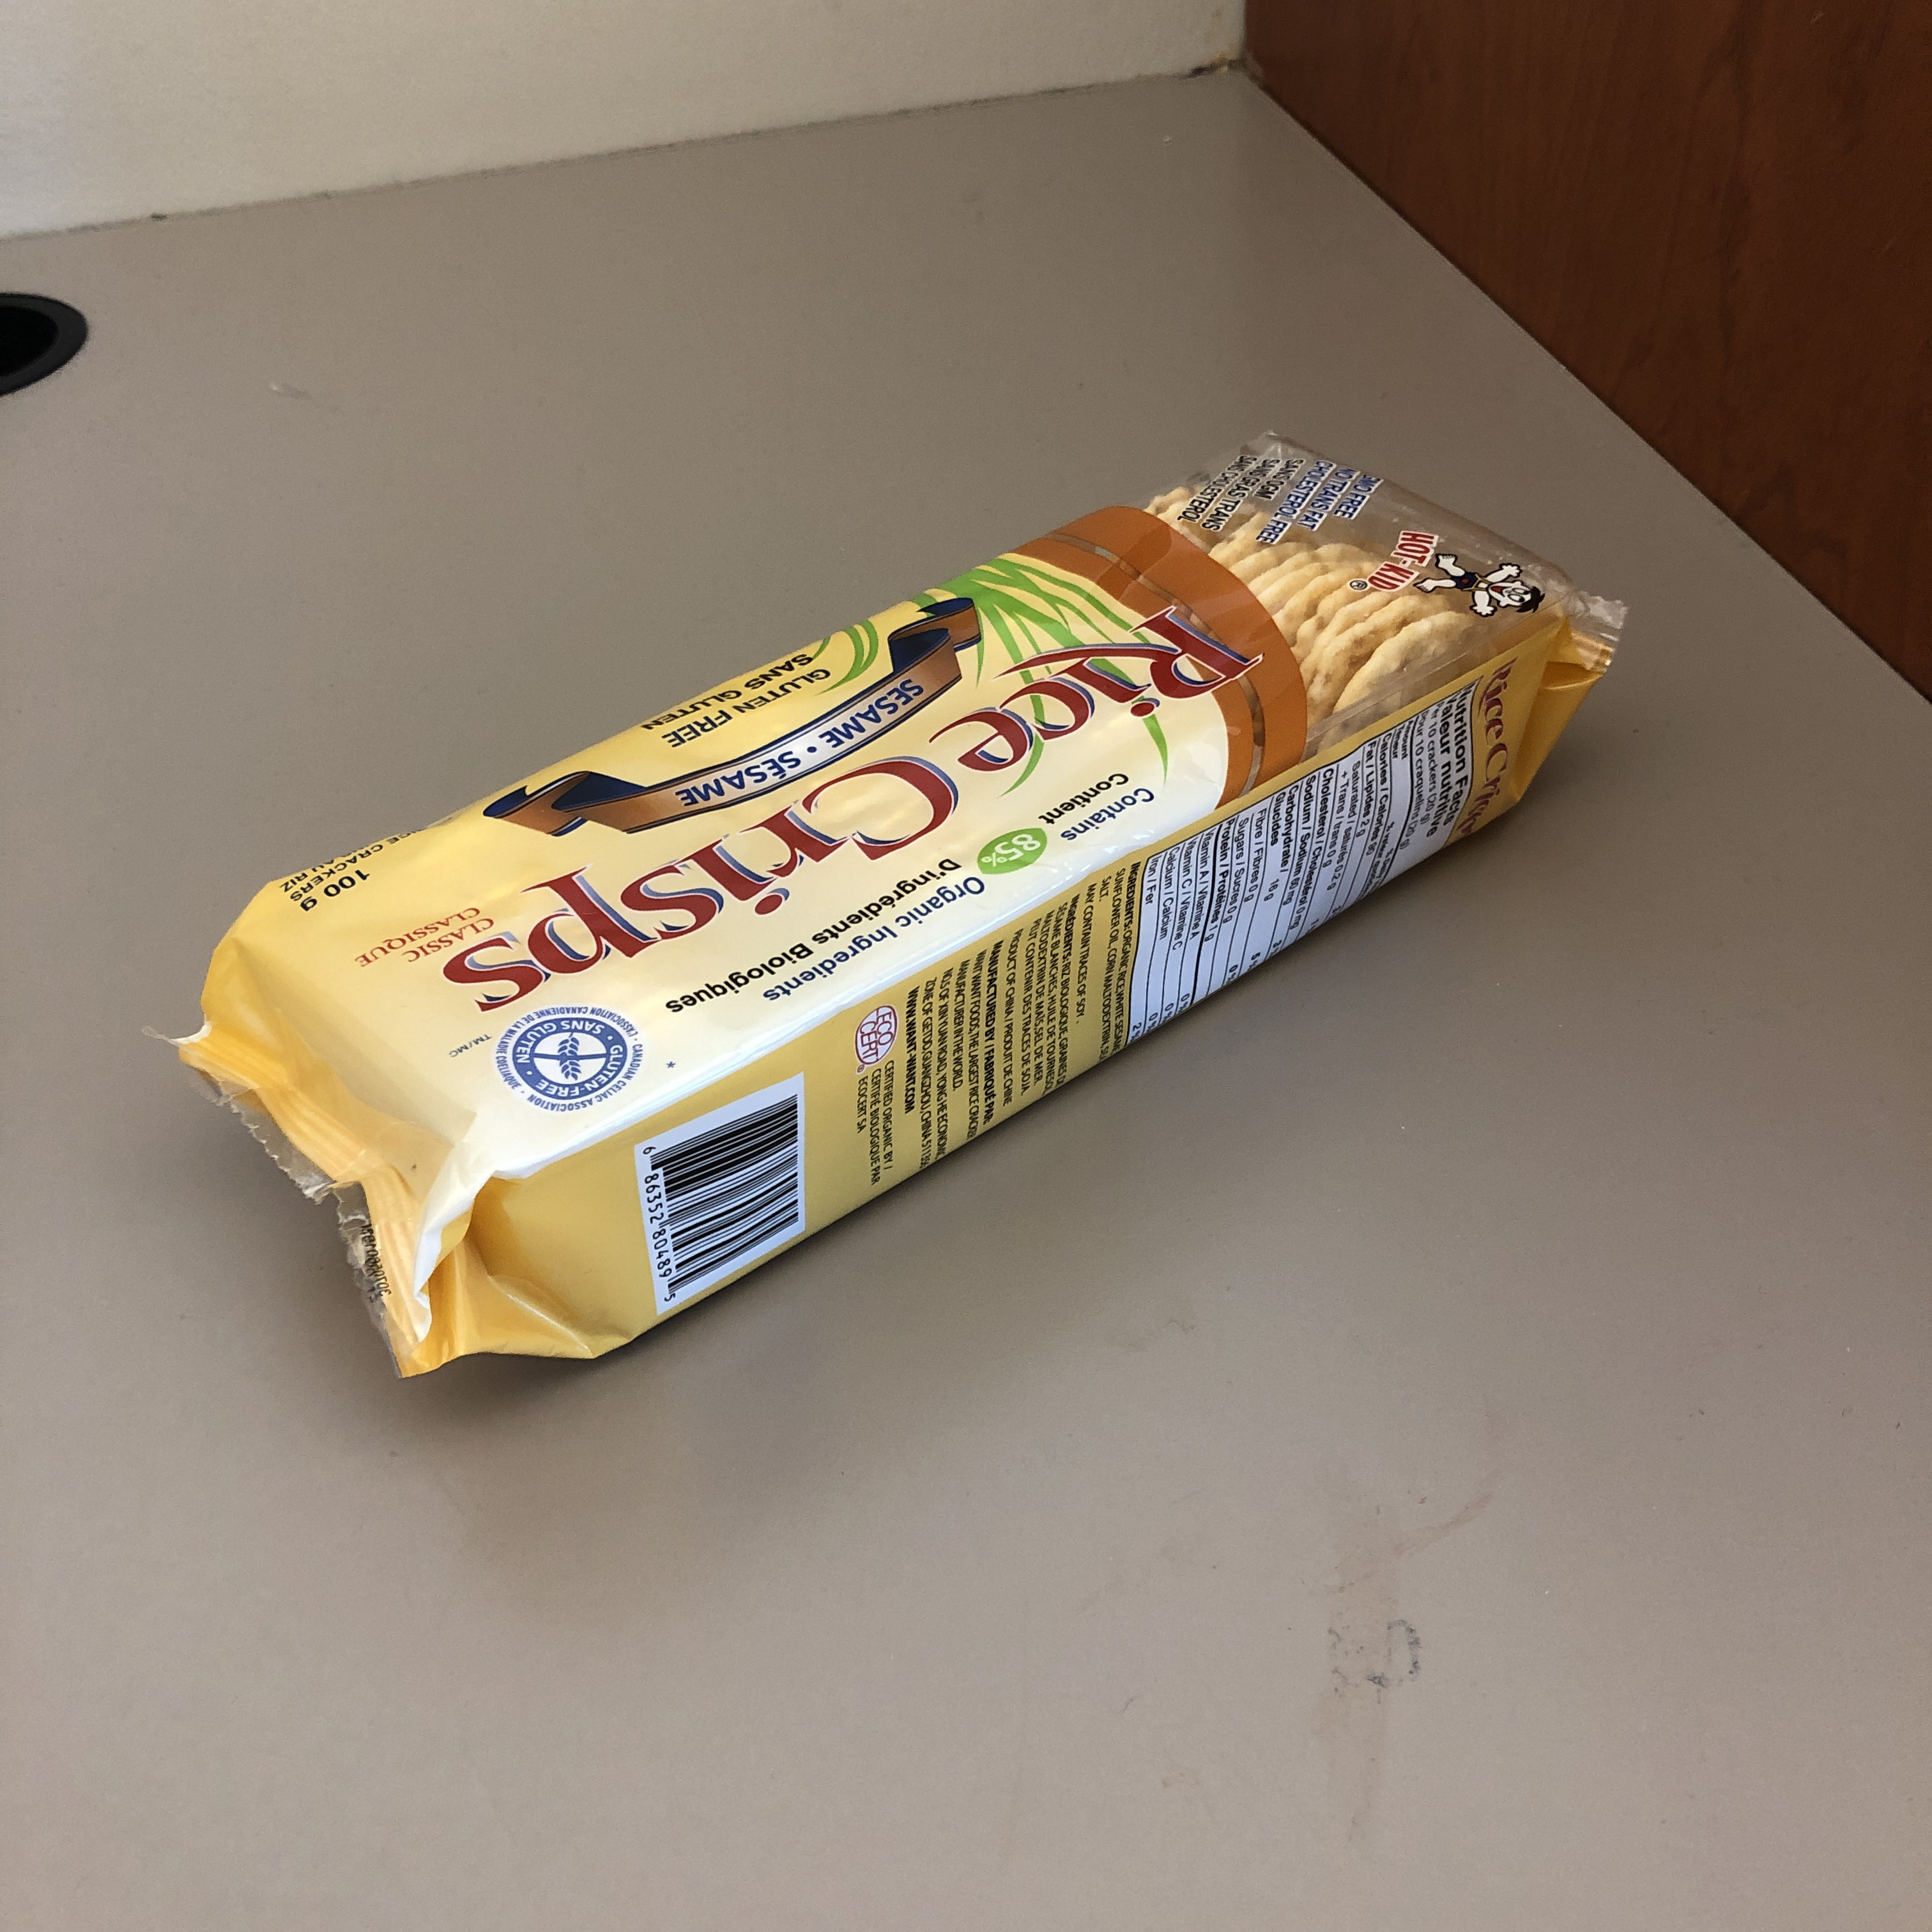hot_kid_rice_crisps_sesame: (446, 347, 1374, 1675)
